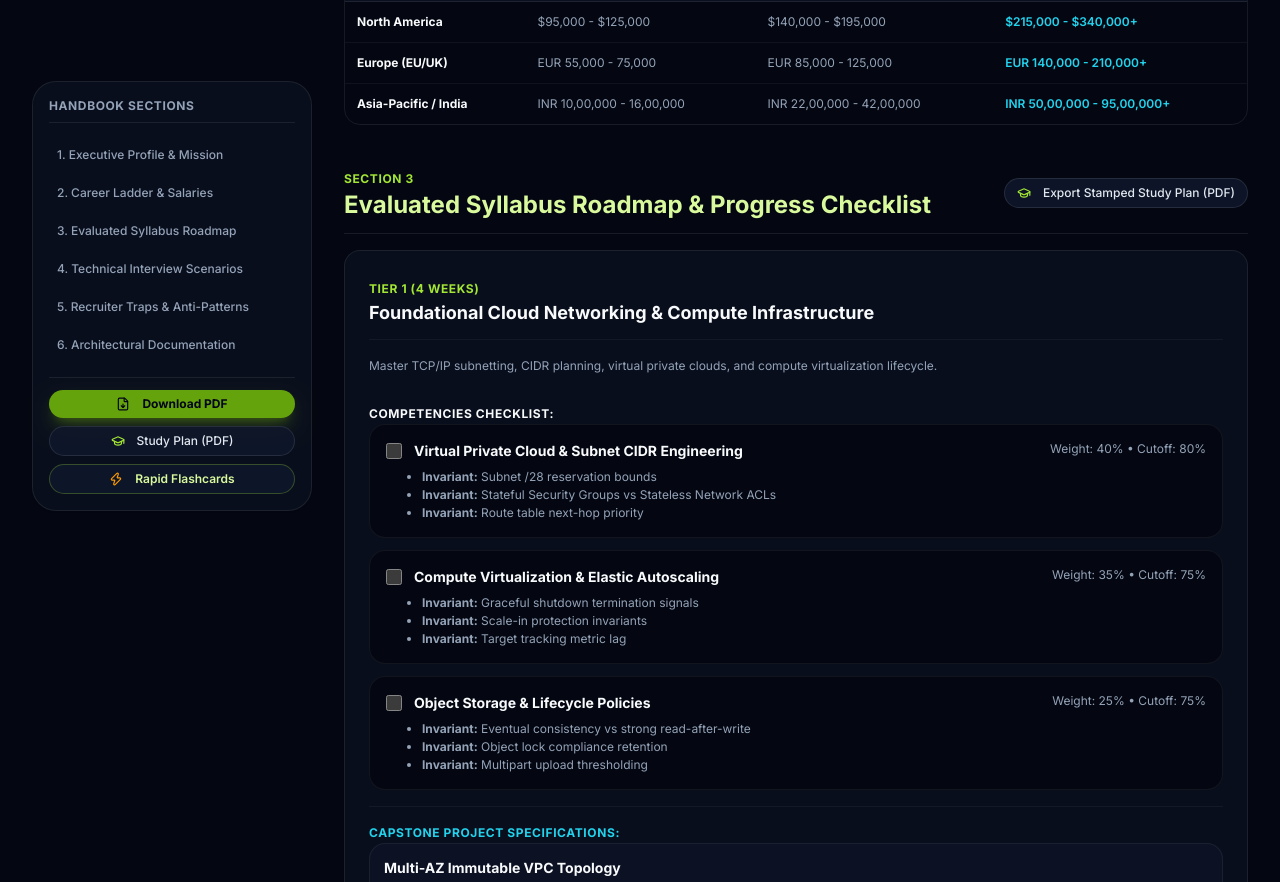
Test: RoleHandbookDetailPage Component › tracks competency mastery status and updates progress calculation
(page scrolled)
// Check first competency
Click the checkbox named "Mark Virtual Private Cloud & Subnet CIDR Engineering as mast".
click(394, 450)  # box [386,442,402,458]
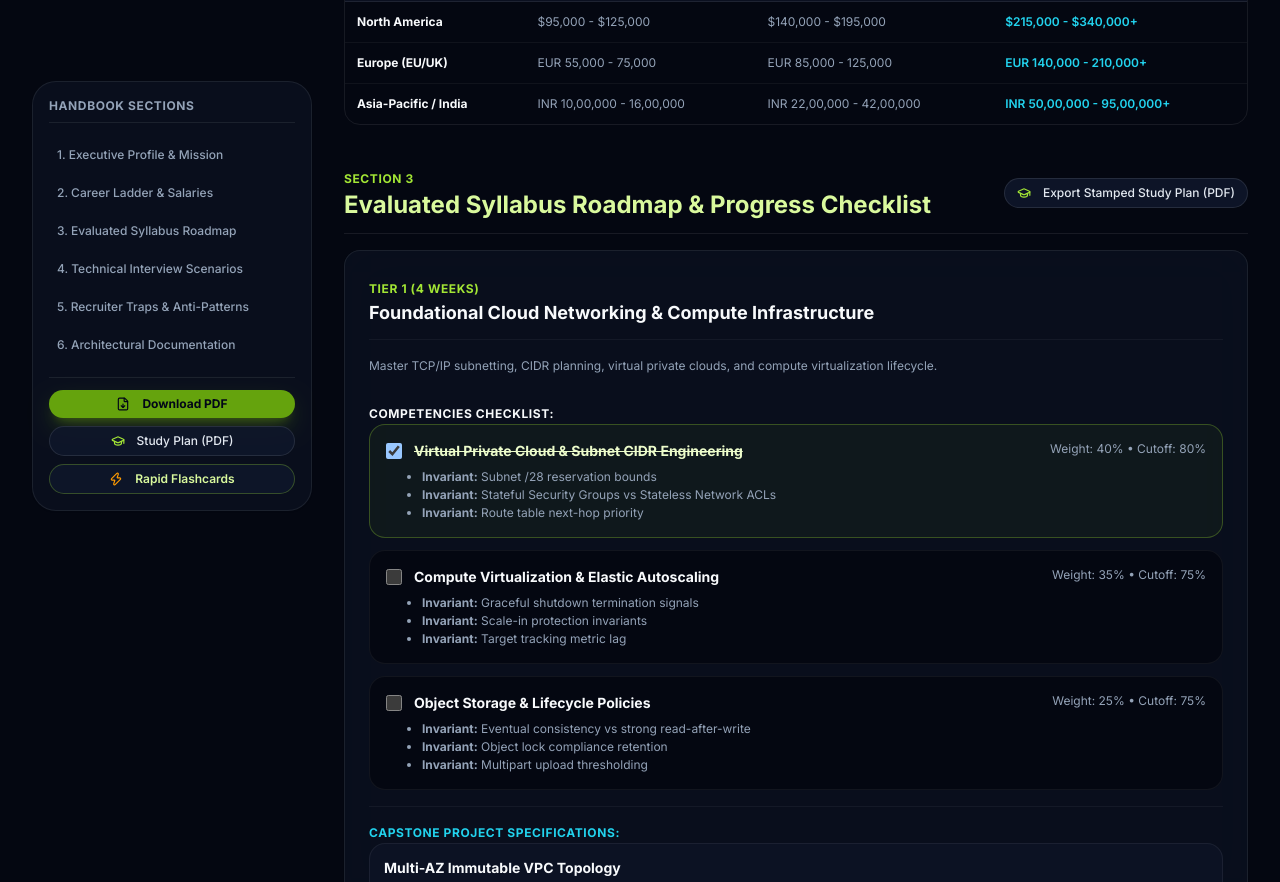
Now the checkbox named "Mark Virtual Private Cloud & Subnet CIDR Engineering as mast" is checked, box [386,442,402,458]
// Check second competency
Click the checkbox named "Mark Compute Virtualization & Elastic Autoscaling as mastere".
click(394, 576)  # box [386,568,402,584]
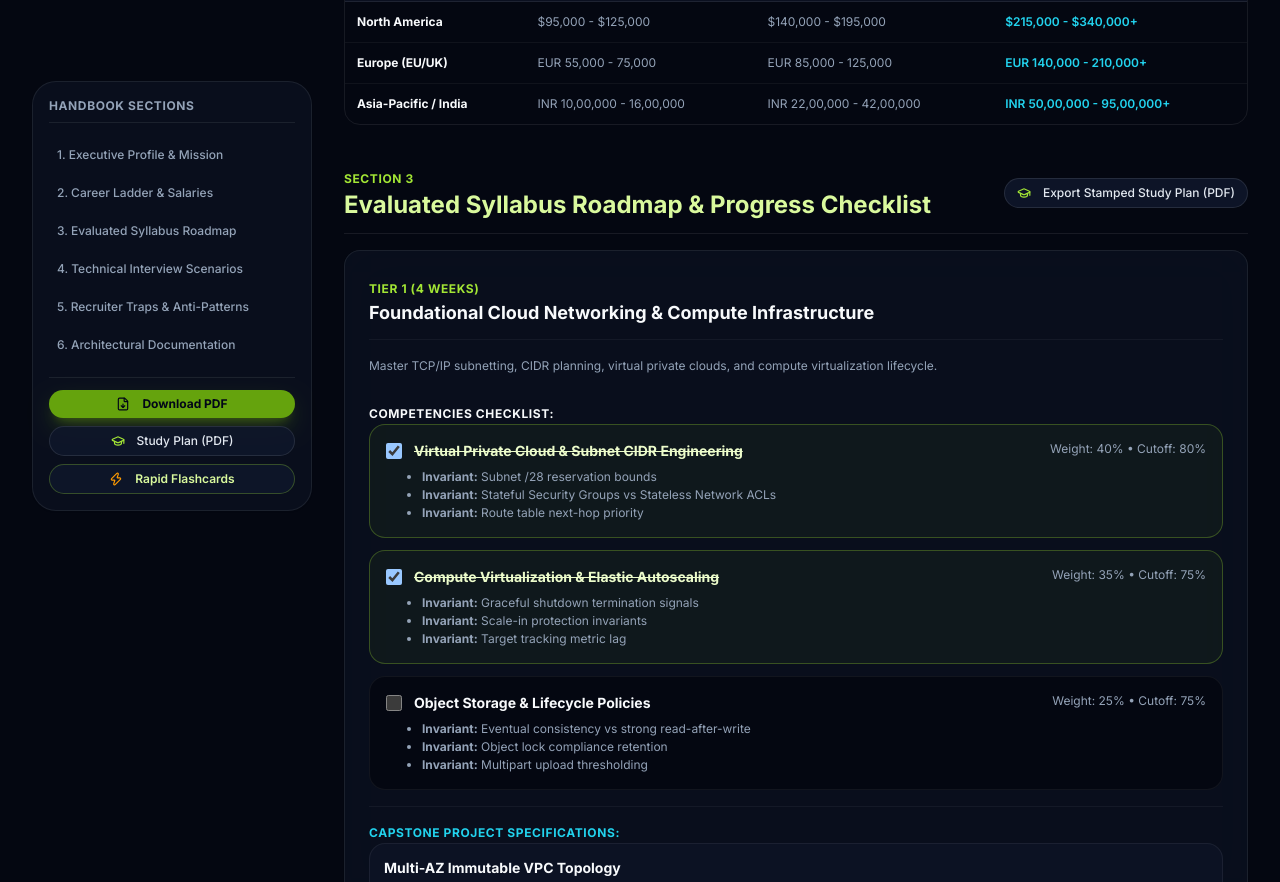
Now the checkbox named "Mark Compute Virtualization & Elastic Autoscaling as mastere" is checked, box [386,568,402,584]
// Uncheck first competency
Click the checkbox named "Mark Virtual Private Cloud & Subnet CIDR Engineering as mast".
click(394, 450)  # box [386,442,402,458]
(page scrolled)
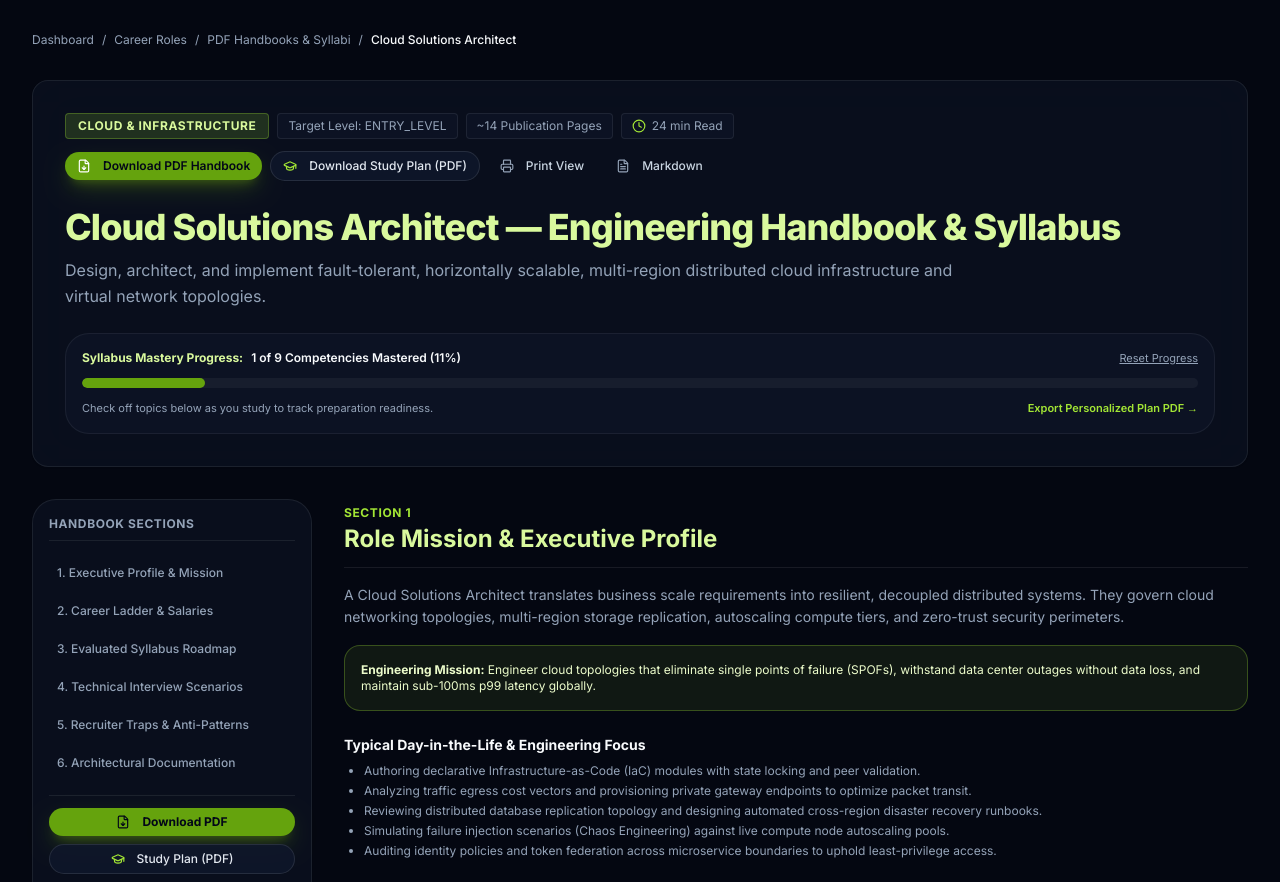
Now the text "1 of 9 Competencies Mastered (11%)" is shown, box [251,350,461,366]
